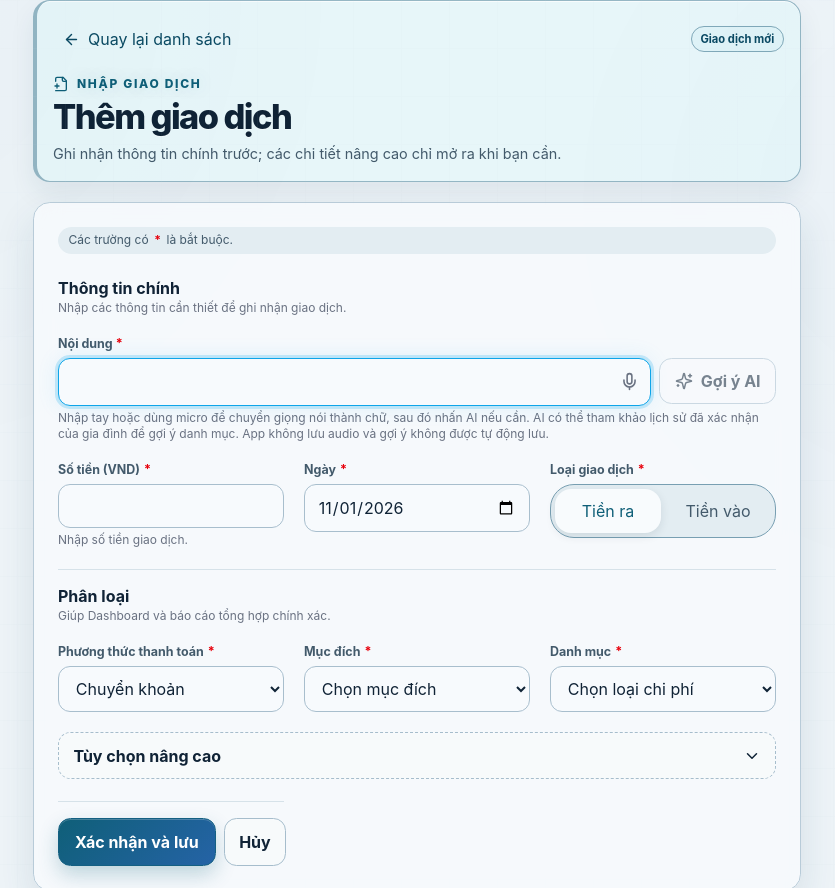
Form giao dịch hợp nhất › dùng chung ô nội dung cho nhập tay và gợi ý AI
Expected: the text "Nhập số tiền giao dịch." is shown, [58,532,188,547]
Expected: the button with aria-label "Phân tích nội dung bằng AI" is disabled, [659,358,776,404]
Type "Hôm nay mua sữa 450 nghìn" into the field labelled "Nội dung *" at (355, 382), box [58,358,651,406]
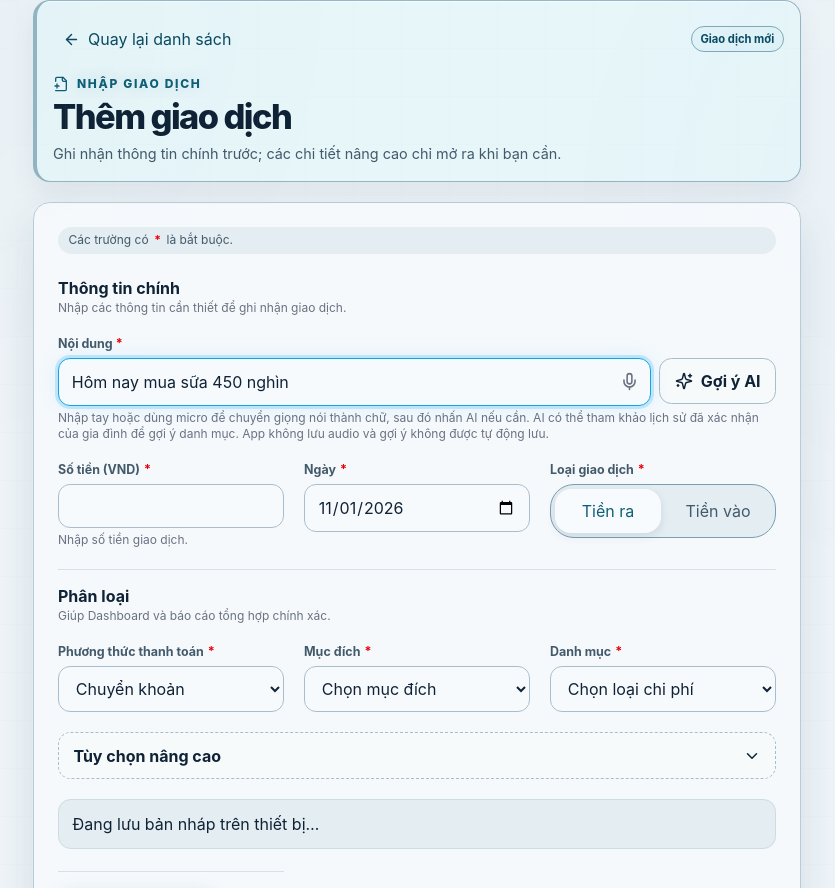
Expected: the button with aria-label "Phân tích nội dung bằng AI" is enabled, [659,358,776,404]
